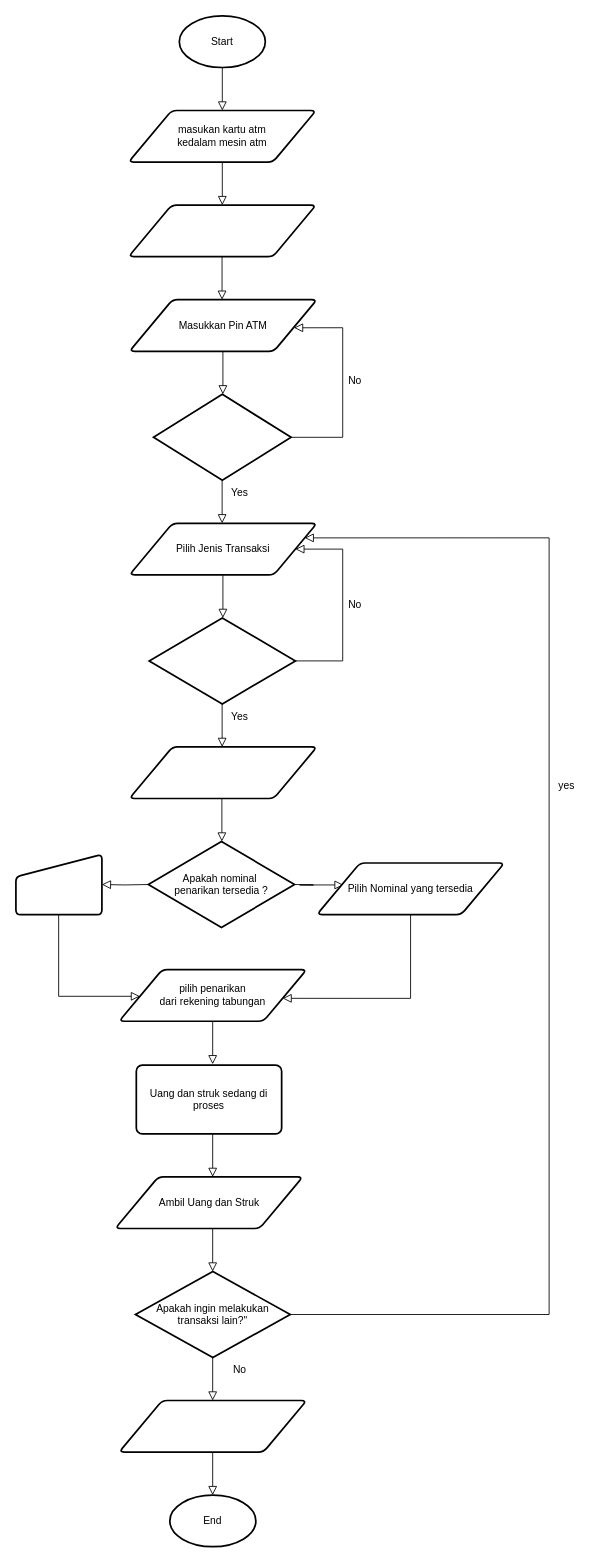
Image size: 598x1562. Some labels were removed from this diagram. Here are the shapes that lost their labels. From the top down, the centre of each, then its label:
the point at 221,230: Pilih bahasa
the point at 222,437: Apakah pin sudah benar?
the point at 222,660: Apakah memilih transaksi penarikan tunai ?
the point at 222,772: Masukkan Nominal Penarikan
the point at 58,884: Ketik Nominal yang diinginkan
the point at 212,1426: Kartu atm keluar
